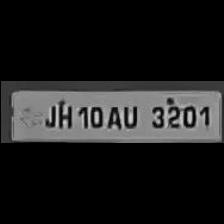0: (81, 101, 103, 128), (180, 102, 198, 128)
1: (76, 102, 92, 130), (196, 101, 212, 128)
2: (164, 101, 180, 129)
3: (146, 101, 166, 128)
A: (105, 102, 121, 130)
H: (51, 98, 73, 130)
J: (39, 97, 55, 128)
U: (118, 101, 140, 128)
